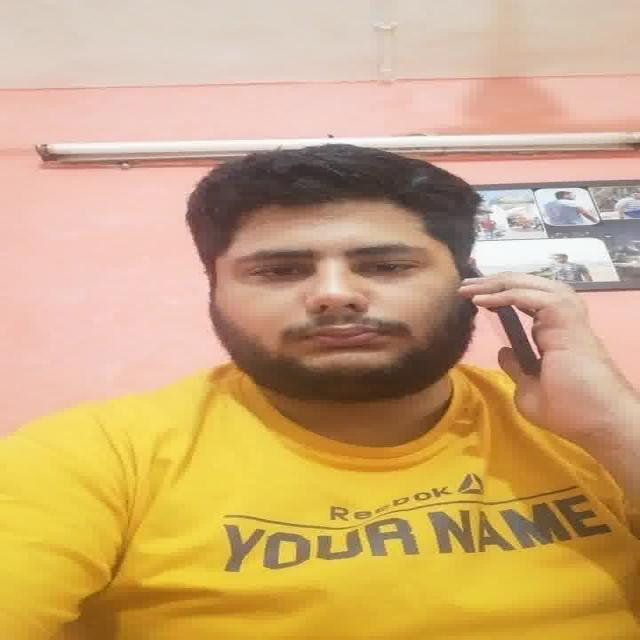phone: (466, 248, 550, 399)
